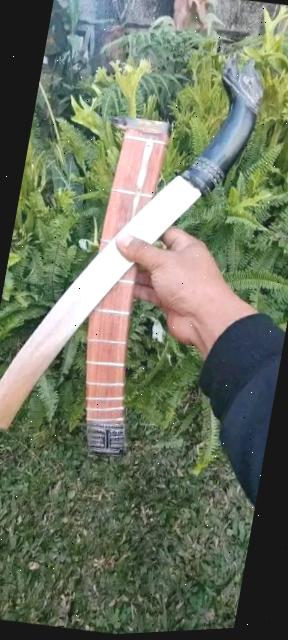long knife: (0, 28, 270, 466)
